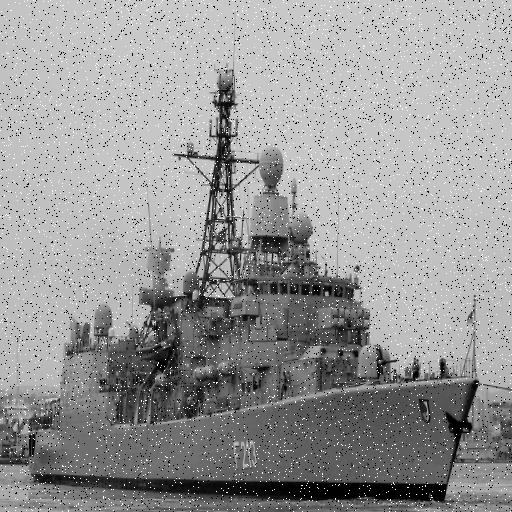Fragata: (23, 39, 487, 512)
